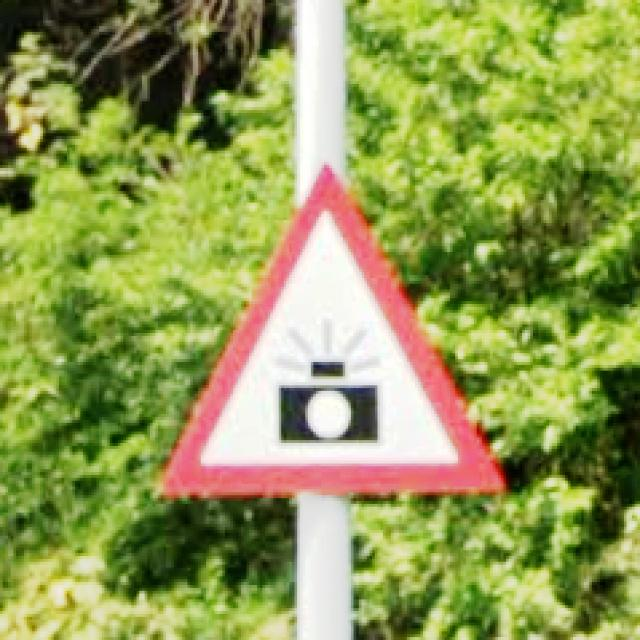speedcamera: (158, 156, 506, 501)
